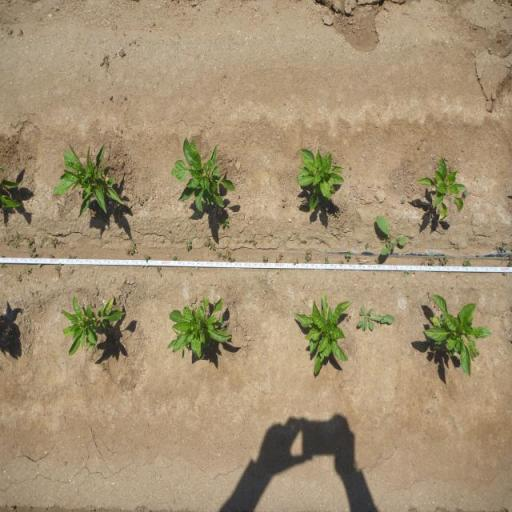plant: (422, 288, 494, 380), (49, 140, 127, 220), (291, 288, 353, 377), (170, 134, 236, 212), (167, 290, 234, 364), (59, 292, 128, 359), (418, 155, 464, 223), (296, 148, 344, 213)
weed: (375, 215, 408, 257), (356, 304, 394, 332), (4, 228, 24, 250), (216, 249, 237, 262), (202, 234, 216, 251), (27, 237, 38, 258), (126, 240, 138, 258), (436, 254, 450, 266), (53, 264, 63, 278), (495, 243, 510, 252), (304, 250, 313, 264), (462, 258, 472, 268), (23, 266, 32, 276), (427, 256, 436, 266), (50, 237, 58, 248), (186, 240, 194, 251), (505, 254, 512, 266), (220, 218, 228, 228), (344, 250, 352, 260), (402, 270, 410, 278), (262, 254, 269, 263), (172, 254, 180, 261), (463, 190, 470, 198), (324, 256, 330, 265), (136, 199, 143, 206), (144, 254, 150, 262), (156, 265, 162, 273), (291, 259, 299, 265), (400, 196, 406, 204), (0, 263, 7, 269), (279, 252, 284, 260), (364, 243, 370, 249), (252, 241, 258, 247), (346, 316, 352, 322)
